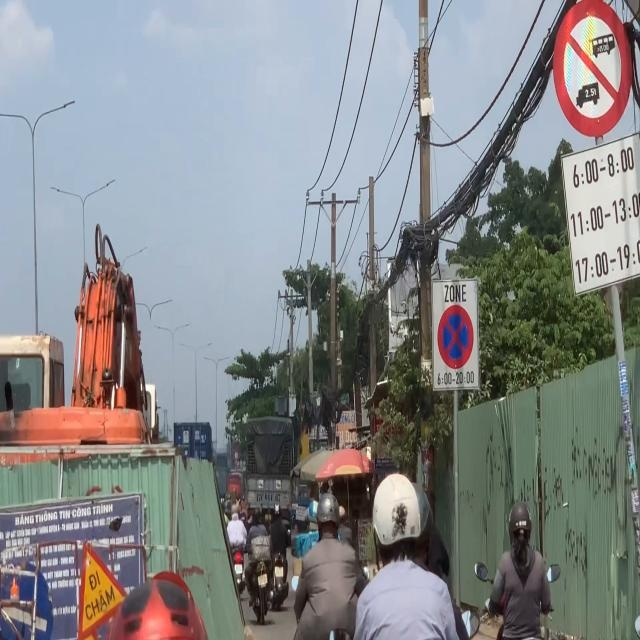bien_cam: (72, 556, 118, 622), (436, 303, 475, 370)
